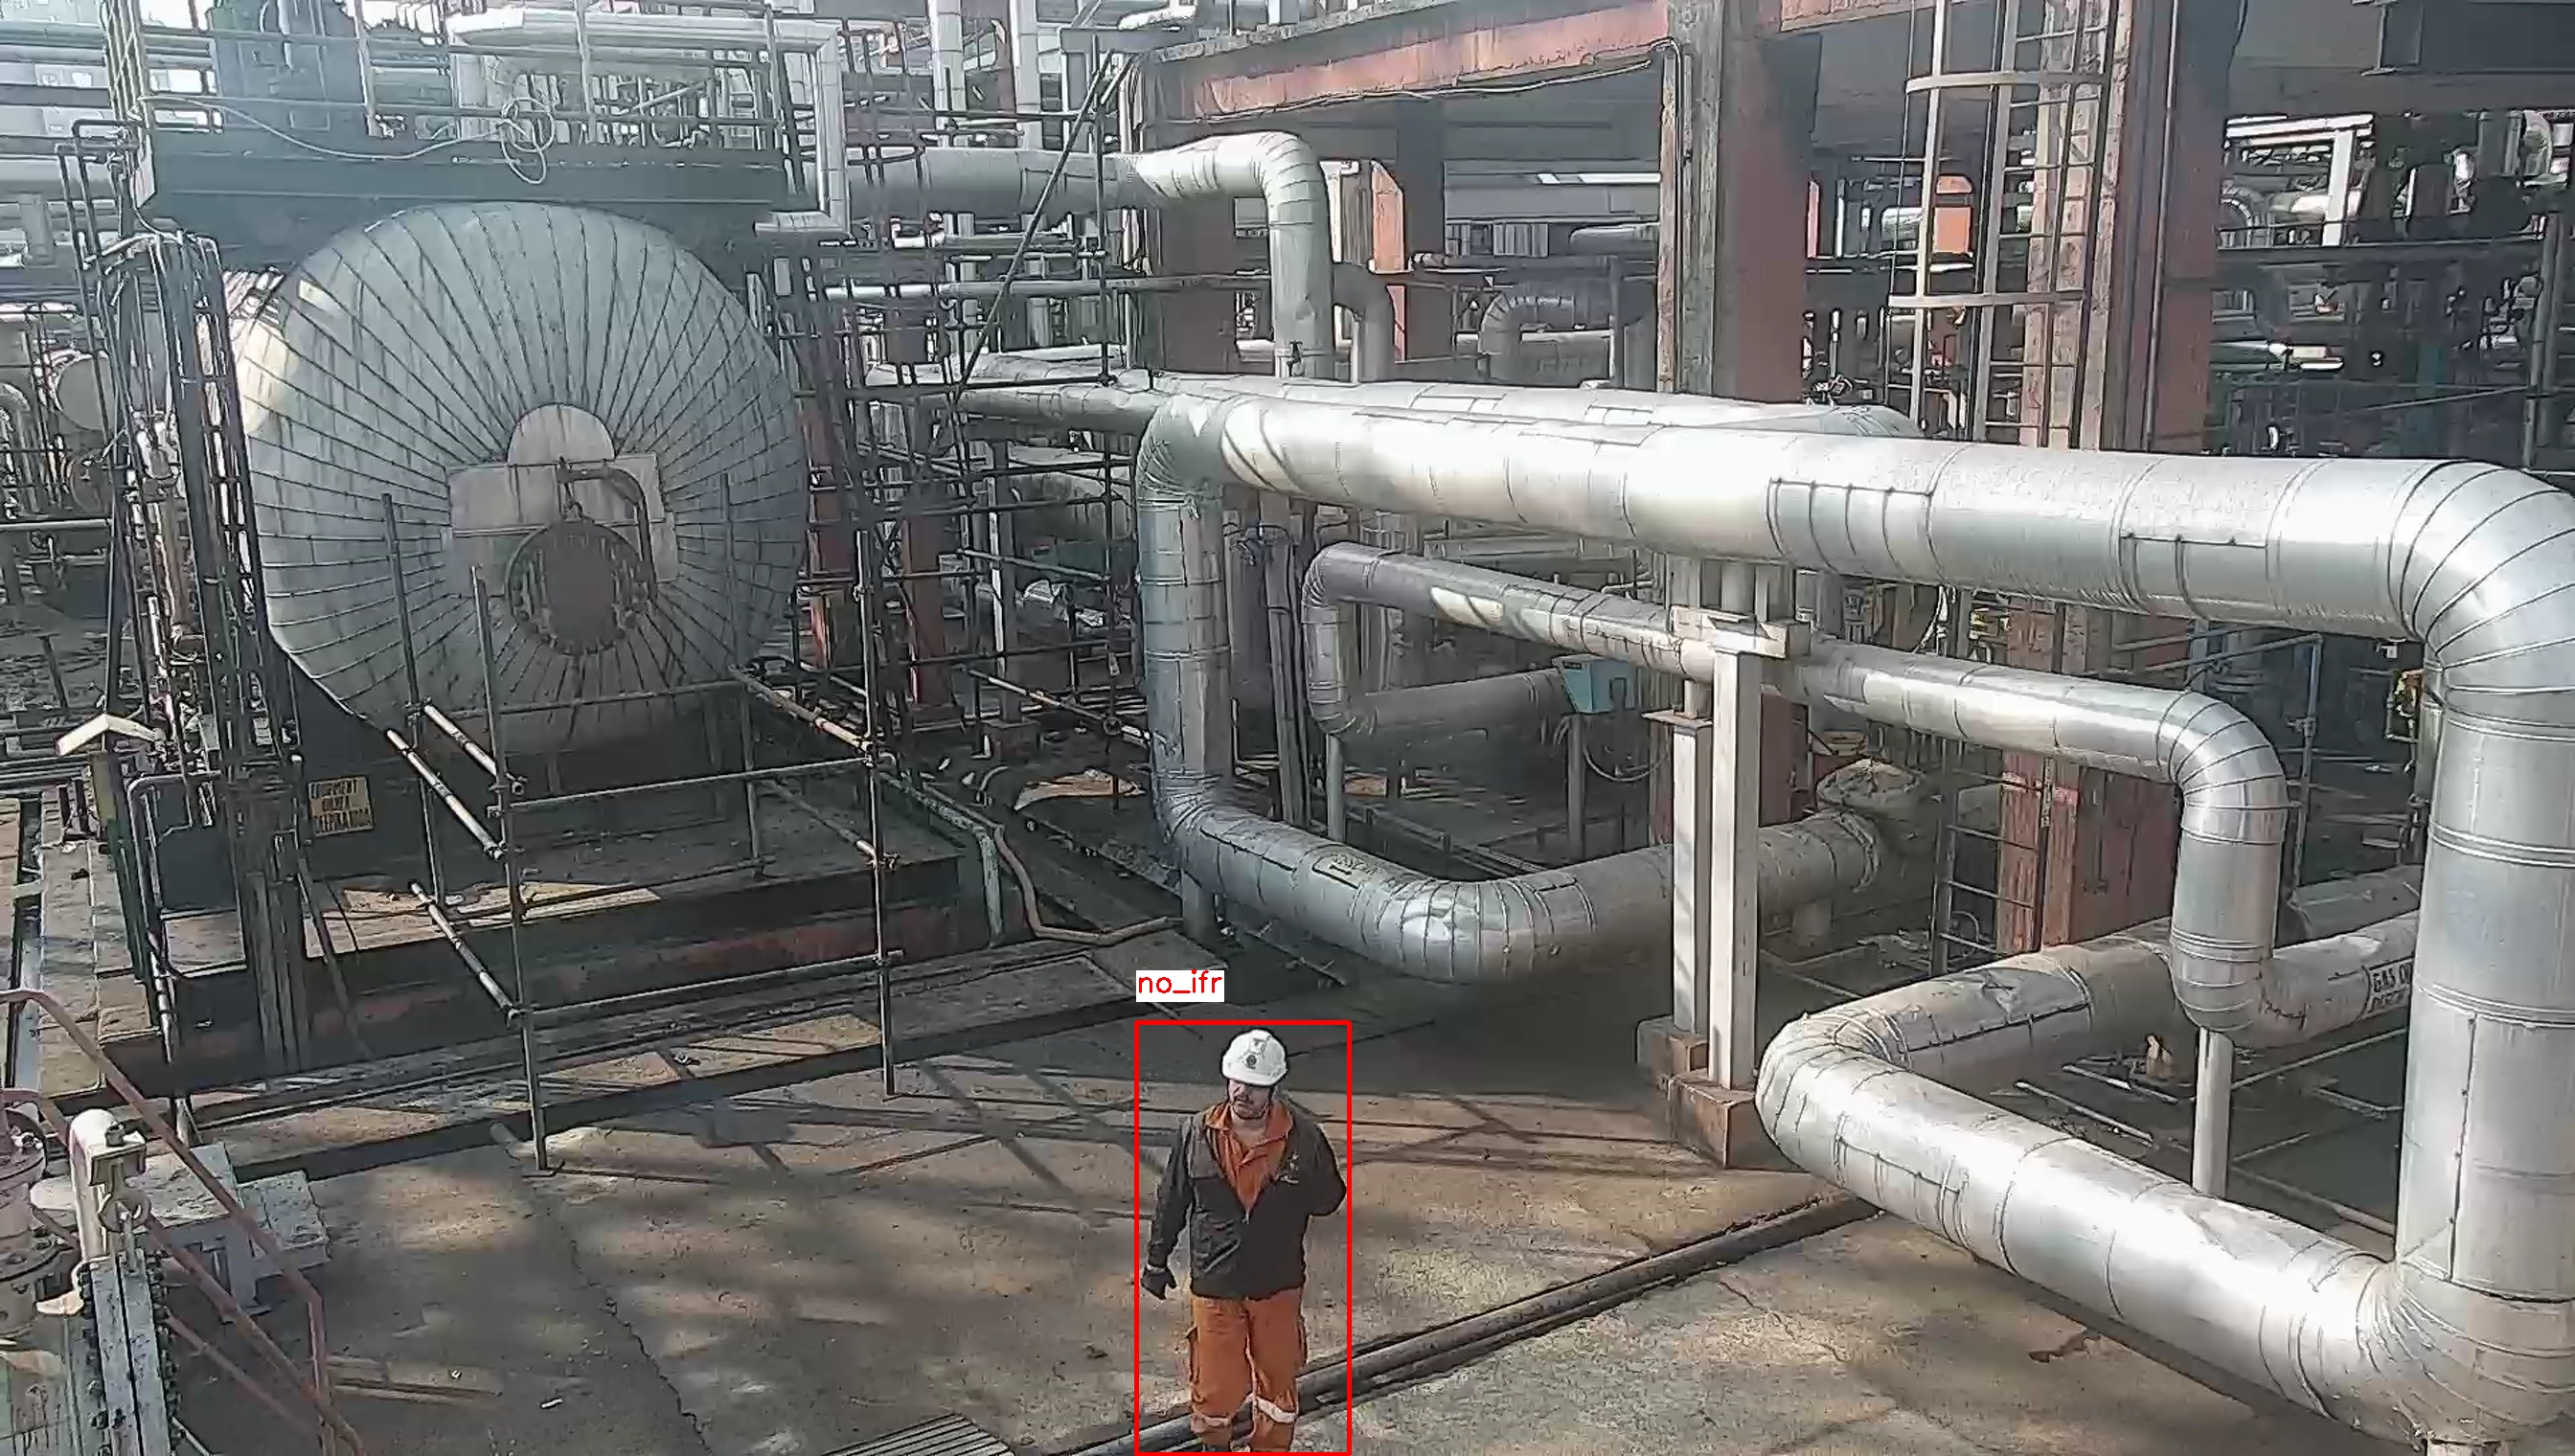Helmets: (1215, 1028, 1291, 1090)
IFR_Suit: (1141, 1095, 1344, 1451)
